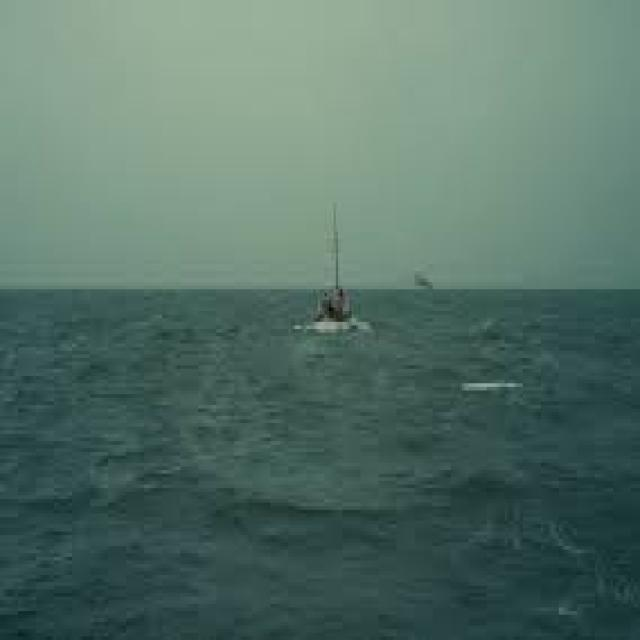fishing boat: (291, 215, 351, 339)
